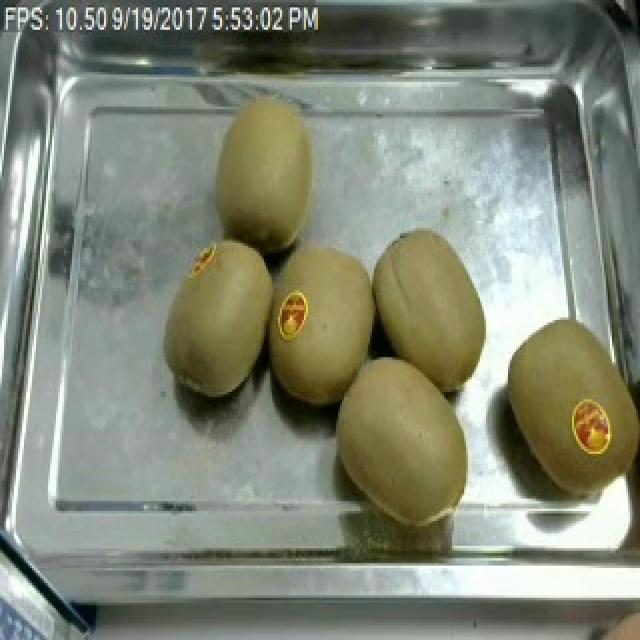Fruit: (324, 342, 480, 534), (494, 305, 638, 476), (370, 223, 496, 402), (262, 233, 384, 417), (206, 84, 330, 260), (156, 228, 276, 407)
